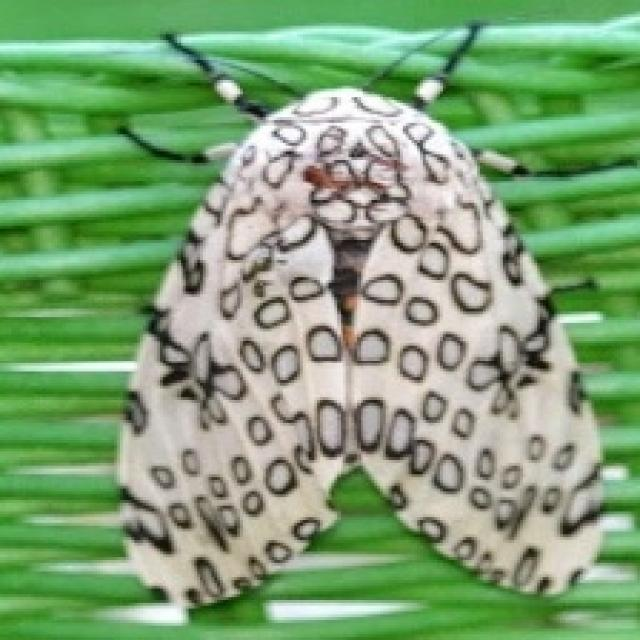butterfly: (109, 17, 608, 612)
